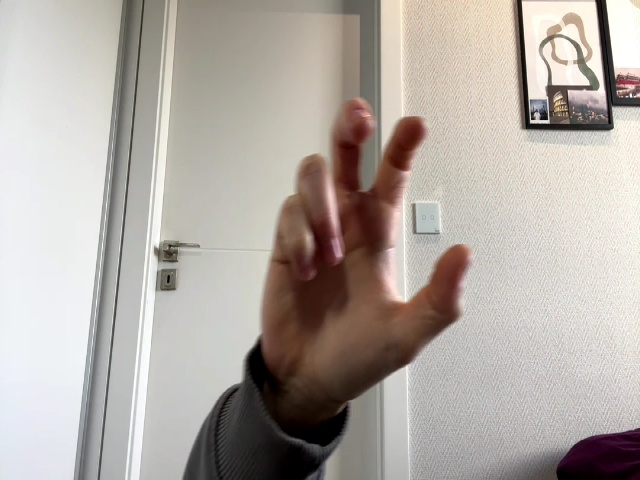CH: (262, 98, 474, 399)
